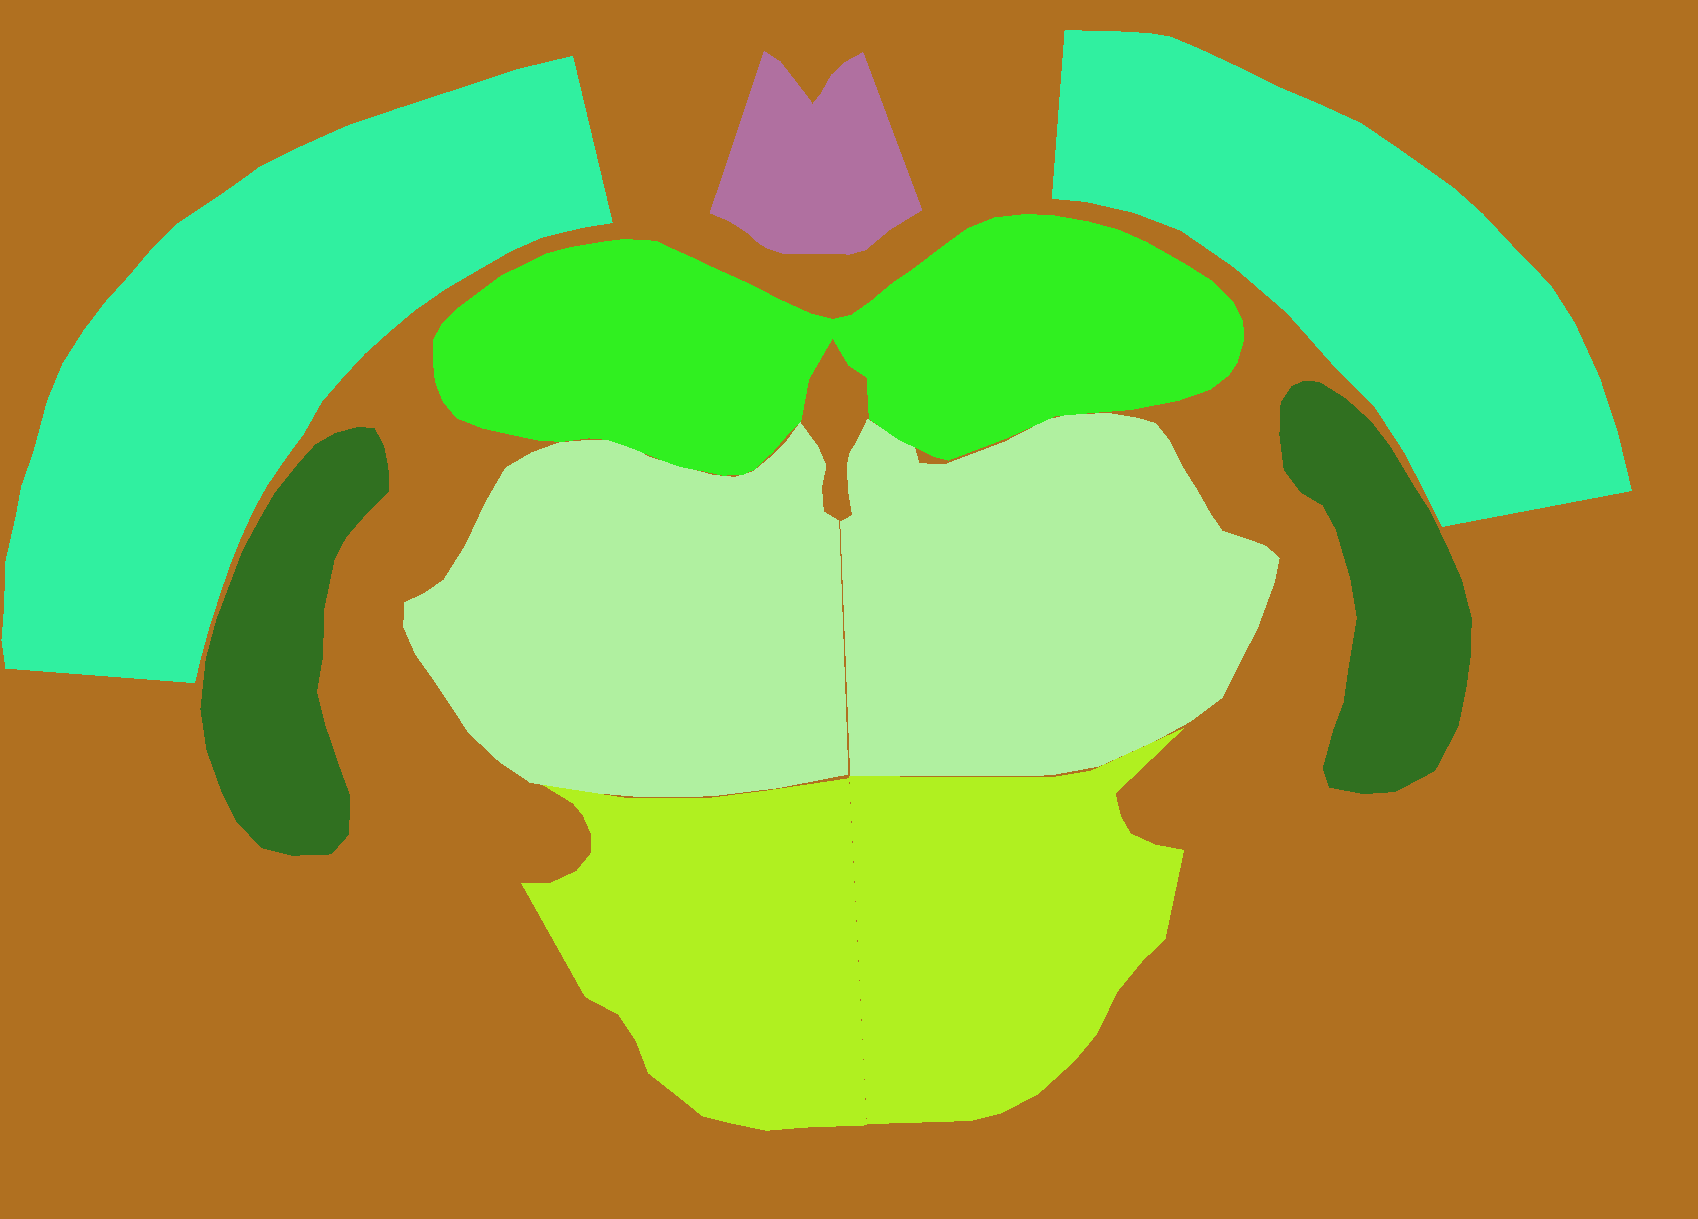Cerebral nuclei: (200, 427, 389, 857), (1279, 381, 1471, 795)
Hippocampal formation: (833, 213, 1244, 460), (432, 239, 833, 476)
Hypothalamus: (849, 727, 1185, 1124), (521, 778, 867, 1131)
Retrosplenial area: (812, 51, 923, 254), (711, 51, 821, 254)
Somatosensory area: (1, 55, 612, 683), (1052, 30, 1632, 527)
Thalamus: (403, 422, 848, 797), (840, 412, 1280, 776)
